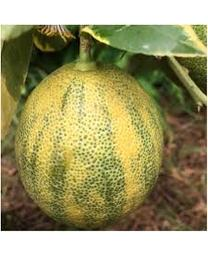lemon: (15, 60, 167, 229)
